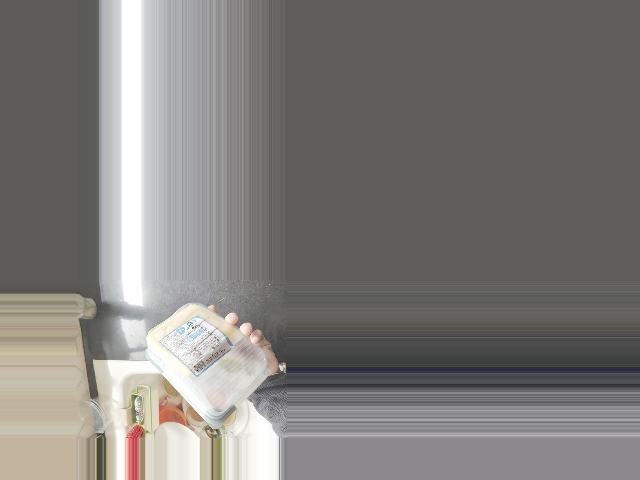cheese: (144, 310, 269, 410)
